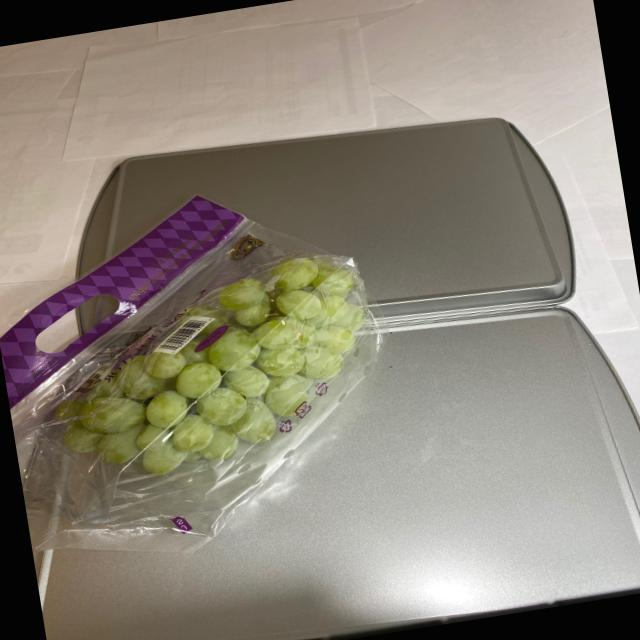grapes: (27, 232, 400, 499)
